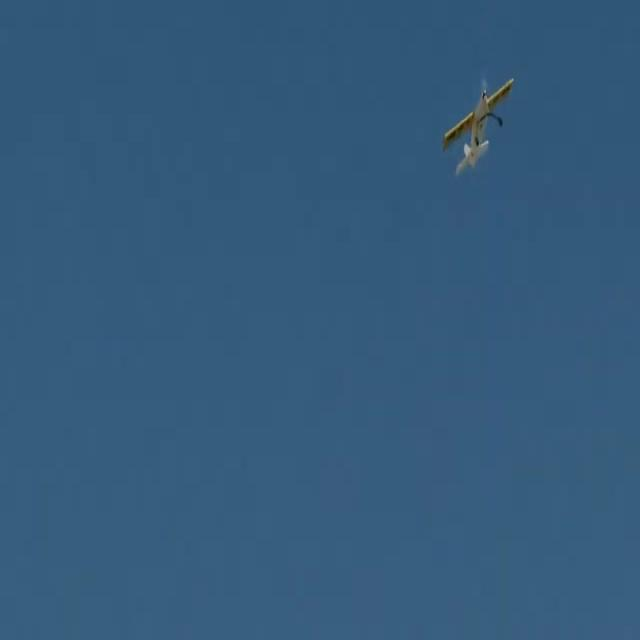iha: (475, 108, 481, 149)
